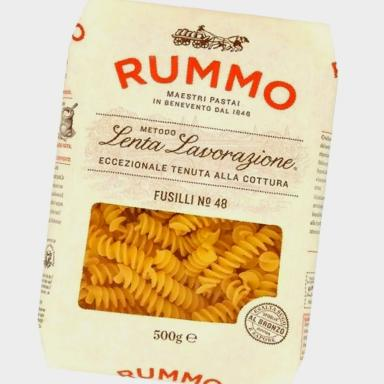pasta package: (39, 0, 337, 383)
